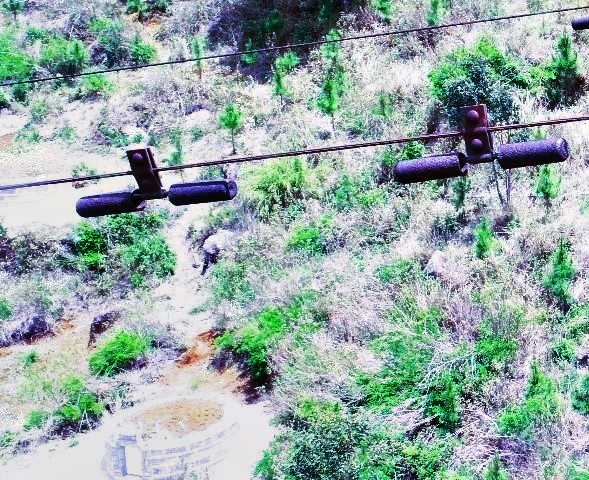Shockproof hammer: (385, 94, 575, 192), (72, 138, 247, 219)
